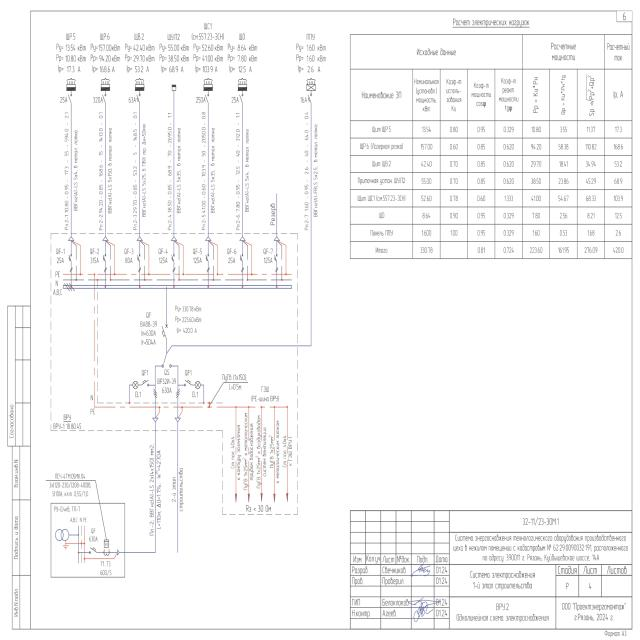-: (139, 320, 159, 347), (157, 378, 177, 395), (52, 422, 82, 431), (192, 256, 202, 266), (226, 255, 236, 265), (124, 256, 134, 266), (263, 255, 273, 265), (90, 256, 99, 266), (56, 256, 65, 266), (159, 256, 168, 266)
HL: (132, 380, 138, 390), (194, 380, 200, 390)
QF: (204, 252, 212, 273), (161, 321, 169, 341), (238, 252, 245, 274), (273, 252, 280, 273), (170, 251, 177, 272), (67, 252, 74, 273), (102, 252, 108, 273), (136, 252, 142, 272), (140, 378, 150, 388), (182, 379, 192, 388)
switch: (161, 352, 173, 371)
